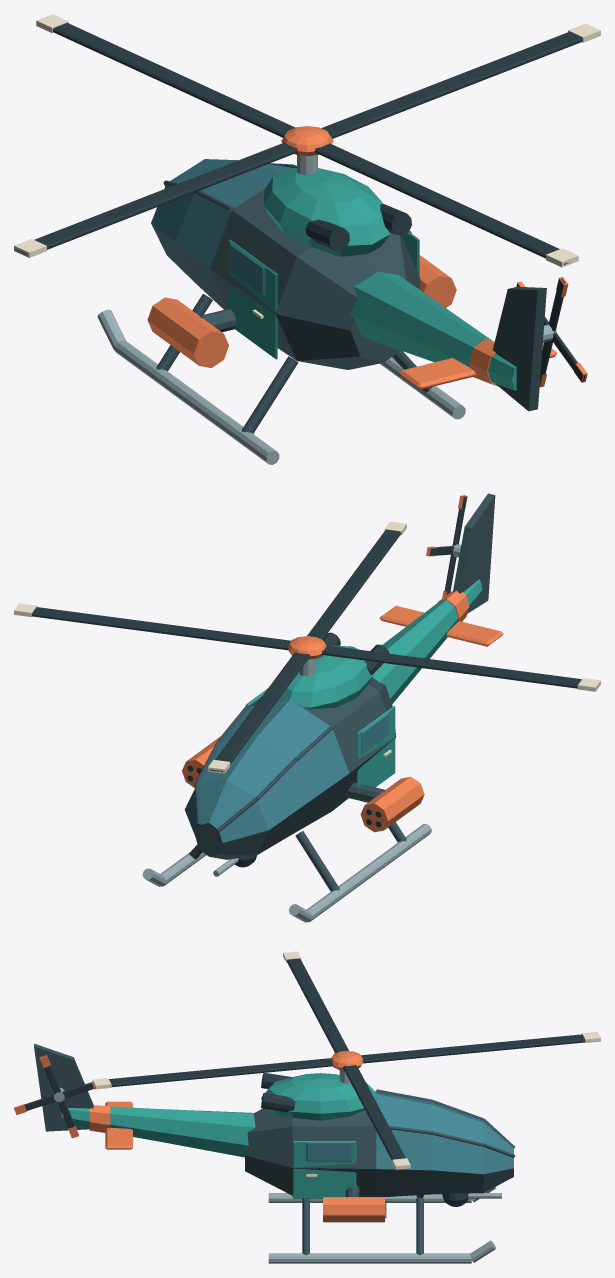
Rendered from helicopter.glb.
3 views of the same model, one above another, from view 1: azimuth 30°, elevation 25°; view 2: azimuth 150°, elevation 25°; view 3: azimuth 270°, elevation 25° (orthographic). The views are drawn at different scales.
Visible parts, largest first — view 1: helicopter.Root_Navy, helicopter.Root_Teal, helicopter.Root_Orange, helicopter.Root_Steel, helicopter.Blade_2_Dark, helicopter.Blade_0_Dark, helicopter.Blade_3_Dark, helicopter.Blade_1_Dark, helicopter.Root_Dark, helicopter.Root_Glass, helicopter.MainRotor_Orange; view 2: helicopter.Root_Navy, helicopter.Root_Teal, helicopter.Root_Orange, helicopter.Root_Steel, helicopter.Blade_0_Dark, helicopter.Blade_2_Dark, helicopter.Blade_1_Dark, helicopter.Blade_3_Dark, helicopter.Root_Glass, helicopter.Root_Dark, helicopter.MainRotor_Orange; view 3: helicopter.Root_Navy, helicopter.Root_Teal, helicopter.Root_Steel, helicopter.Root_Orange, helicopter.Blade_1_Dark, helicopter.Blade_3_Dark, helicopter.Blade_0_Dark, helicopter.Blade_2_Dark, helicopter.Root_Glass, helicopter.Root_Dark, helicopter.MainRotor_Orange.
Part boxes in pixels (x1,y1,x2,y2): helicopter.Root_Navy: (151, 159, 546, 433); helicopter.Root_Teal: (229, 168, 516, 390); helicopter.Root_Orange: (147, 255, 556, 389); helicopter.Root_Steel: (97, 155, 465, 464); helicopter.Blade_2_Dark: (15, 142, 297, 255); helicopter.Blade_0_Dark: (321, 31, 582, 138); helicopter.Blade_3_Dark: (315, 143, 568, 264); helicopter.Blade_1_Dark: (53, 23, 294, 137); helicopter.Root_Dark: (305, 204, 411, 250); helicopter.Root_Glass: (229, 230, 411, 295); helicopter.MainRotor_Orange: (281, 126, 333, 155); helicopter.Root_Navy: (184, 493, 495, 891); helicopter.Root_Teal: (248, 579, 482, 787); helicopter.Root_Orange: (182, 590, 503, 832); helicopter.Root_Steel: (142, 658, 431, 922); helicopter.Blade_0_Dark: (32, 607, 290, 650); helicopter.Blade_2_Dark: (322, 645, 581, 688); helicopter.Blade_1_Dark: (209, 652, 310, 772); helicopter.Blade_3_Dark: (307, 529, 400, 639); helicopter.Root_Glass: (246, 688, 389, 754); helicopter.Root_Dark: (187, 632, 389, 827); helicopter.MainRotor_Orange: (288, 636, 326, 659); helicopter.Root_Navy: (34, 1043, 515, 1255); helicopter.Root_Teal: (61, 1073, 376, 1198); helicopter.Root_Steel: (268, 1070, 496, 1263); helicopter.Root_Orange: (89, 1101, 384, 1222); helicopter.Blade_1_Dark: (361, 1034, 585, 1063); helicopter.Blade_3_Dark: (109, 1058, 333, 1087); helicopter.Blade_0_Dark: (343, 1065, 405, 1160); helicopter.Blade_2_Dark: (287, 958, 348, 1053); helicopter.Root_Glass: (306, 1142, 352, 1161); helicopter.Root_Dark: (261, 1072, 386, 1218); helicopter.MainRotor_Orange: (330, 1051, 363, 1070).
Bounding box in the file's own units: 6.38 × 2.61 × 7.37.
